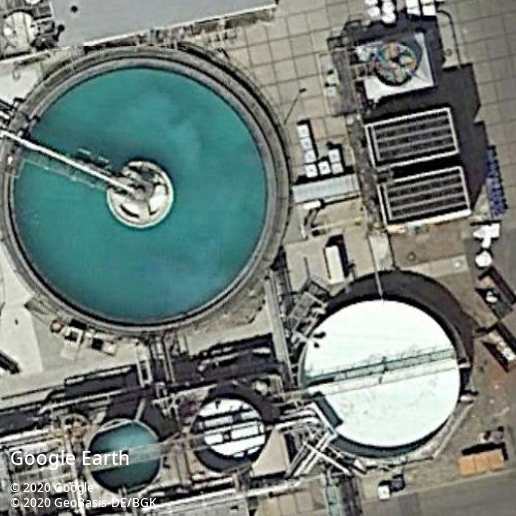Vent: (371, 42, 419, 87)
